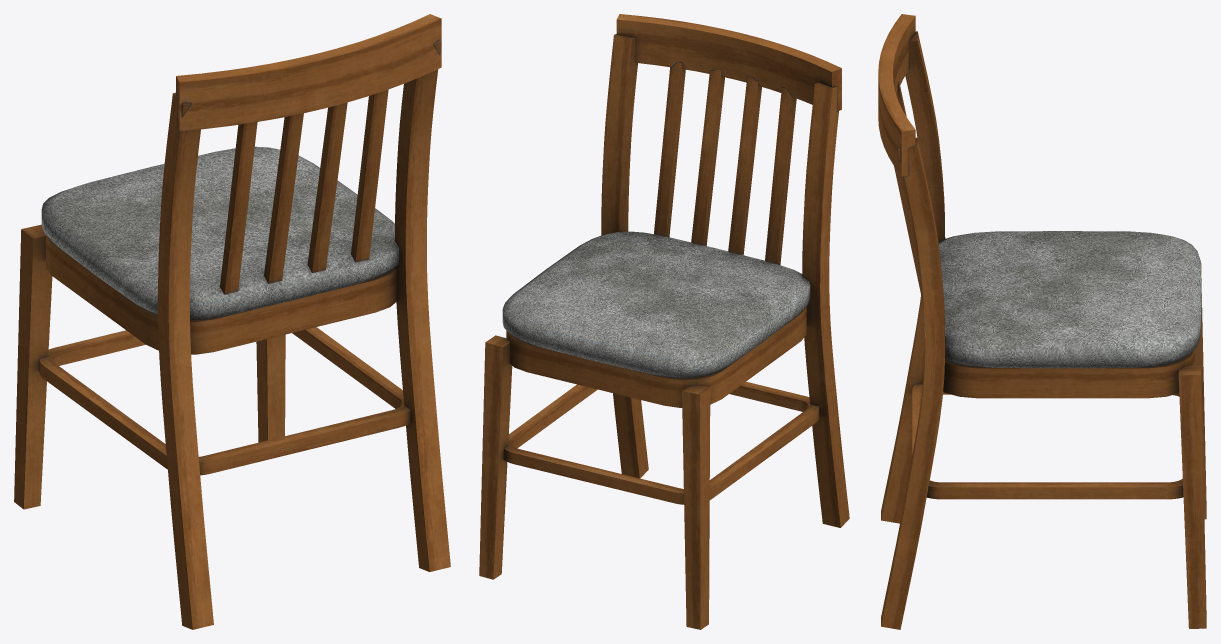
File: chair_spindle_web.glb
The picture shows the model from 3 angles, left to right: view 1: azimuth 30°, elevation 25°; view 2: azimuth 150°, elevation 25°; view 3: azimuth 270°, elevation 25°; orthographic projection. The views are drawn at different scales.
Parts seen in each view (by area): view 1: ChairSpindle_Mesh; view 2: ChairSpindle_Mesh; view 3: ChairSpindle_Mesh.
Part boxes in pixels (left/top/right/bottom): ChairSpindle_Mesh: left=14, top=14, right=450, bottom=629; ChairSpindle_Mesh: left=479, top=14, right=849, bottom=629; ChairSpindle_Mesh: left=878, top=14, right=1206, bottom=629.
Size of the model in its own units: 0.4205 by 0.8327 by 0.4965.
Materials: 1 (1 with a texture image).
